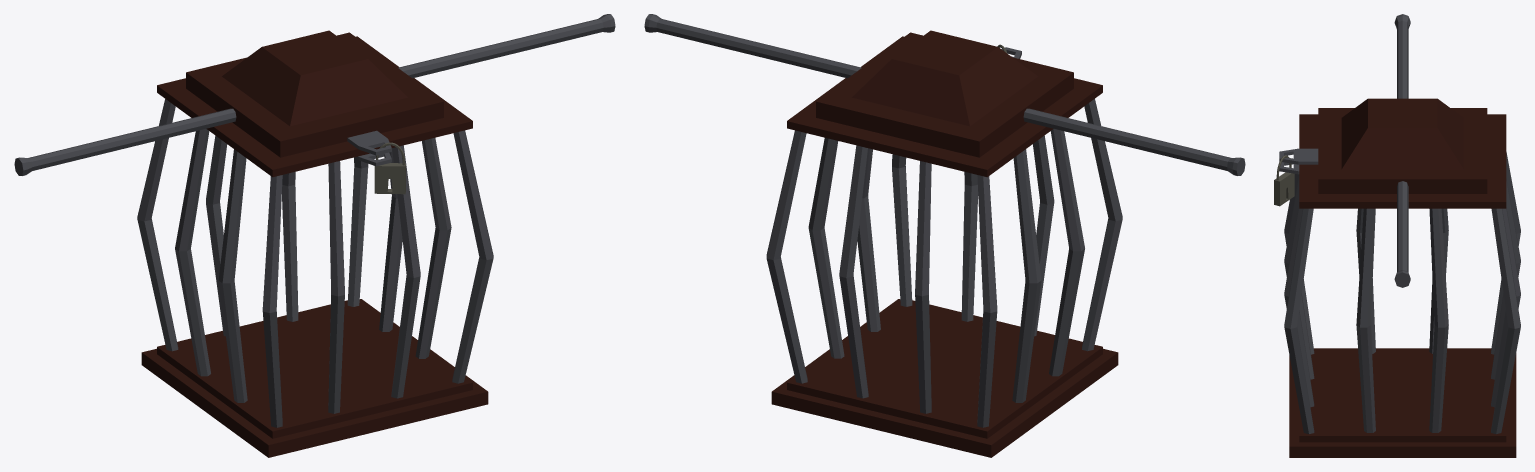
Rendered from LokiBabyDragonJaula.fbx.
3 views of the same model, side by side, from view 1: azimuth 30°, elevation 25°; view 2: azimuth 150°, elevation 25°; view 3: azimuth 270°, elevation 25° (orthographic). The views are drawn at different scales.
Parts seen in each view (by area): view 1: Jaula; view 2: Jaula; view 3: Jaula.
Boxes of the visible parts, bbox=[...] form: Jaula: bbox=[14, 14, 615, 457]; Jaula: bbox=[644, 14, 1245, 457]; Jaula: bbox=[1274, 14, 1520, 457].
Bounding box in the file's own units: 591 × 316 × 238.
